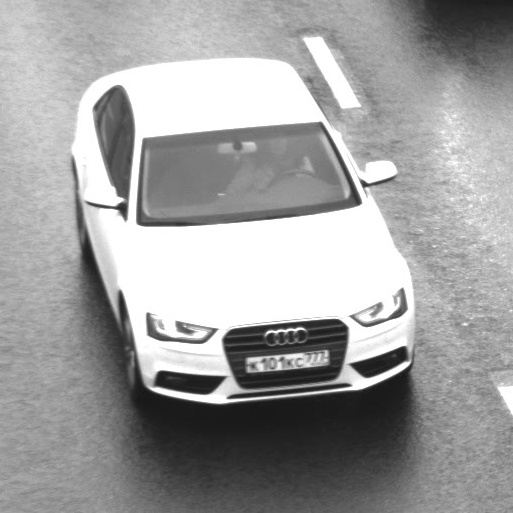plate: (236, 341, 339, 381)
